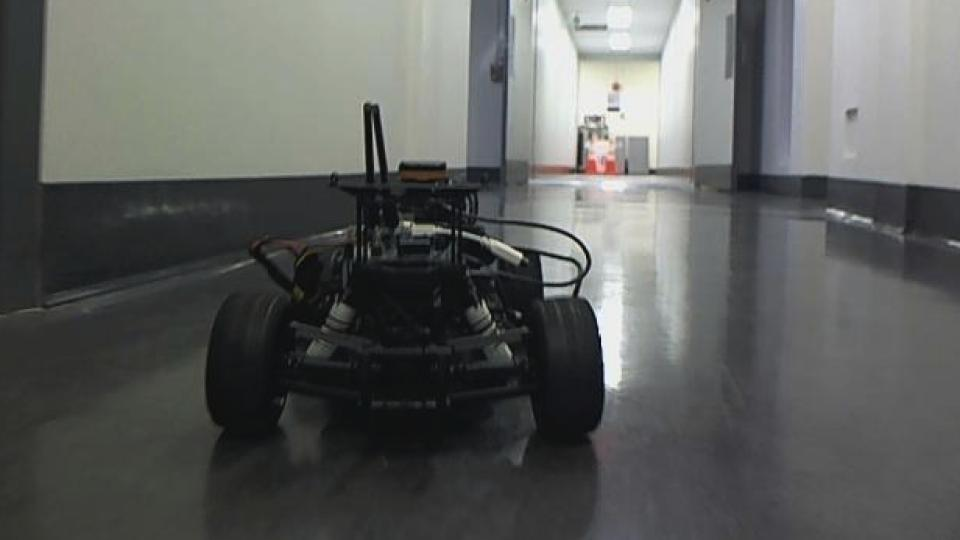car: (199, 98, 608, 447)
